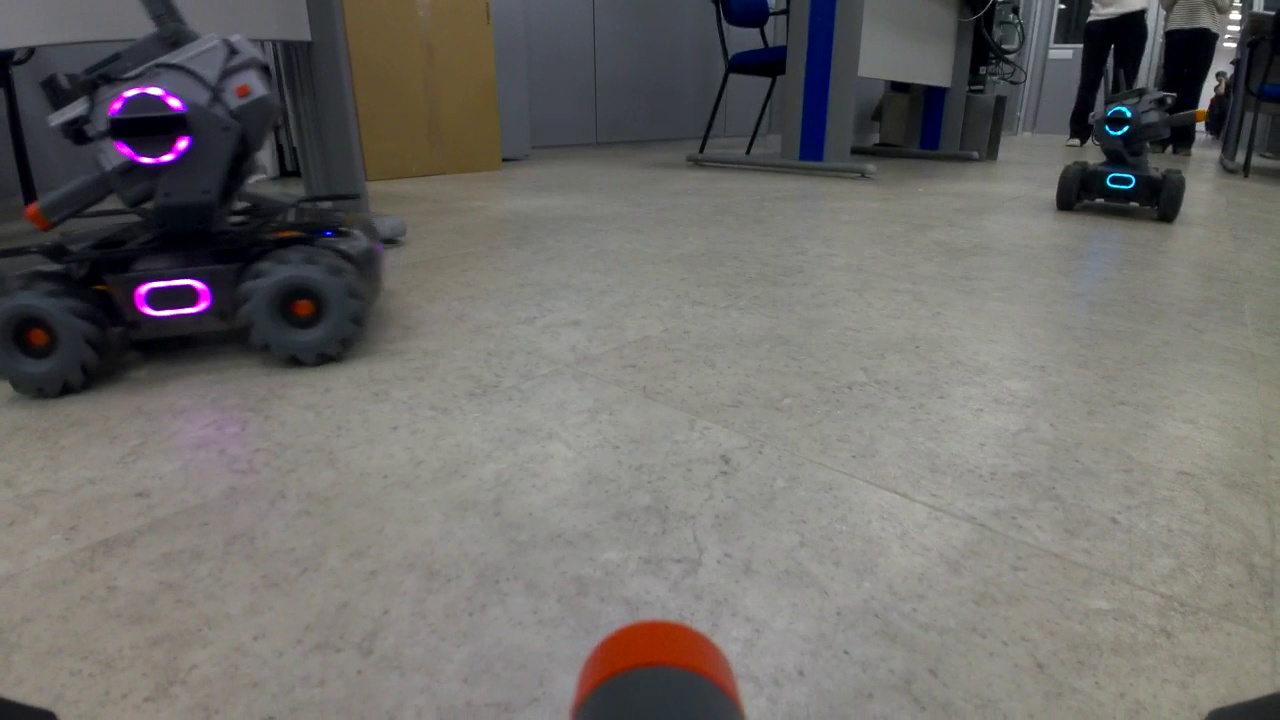robot: (4, 28, 392, 399), (1055, 88, 1209, 225)
